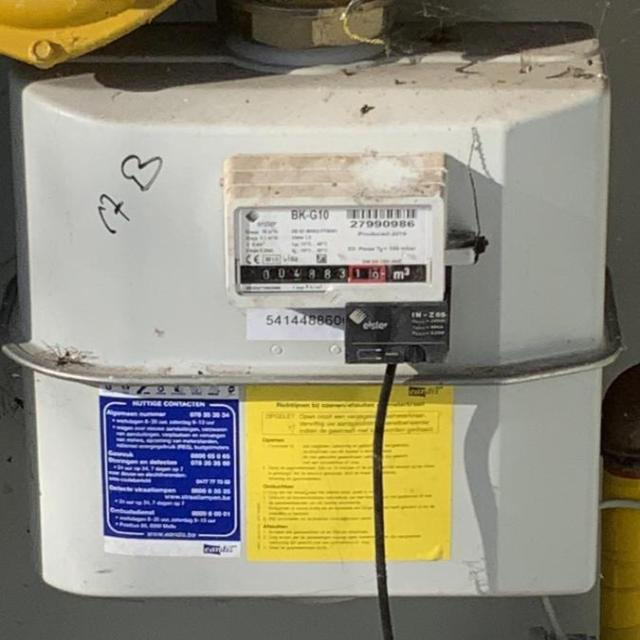gaz_meter: (233, 205, 437, 290)
indication: (239, 263, 392, 286)
